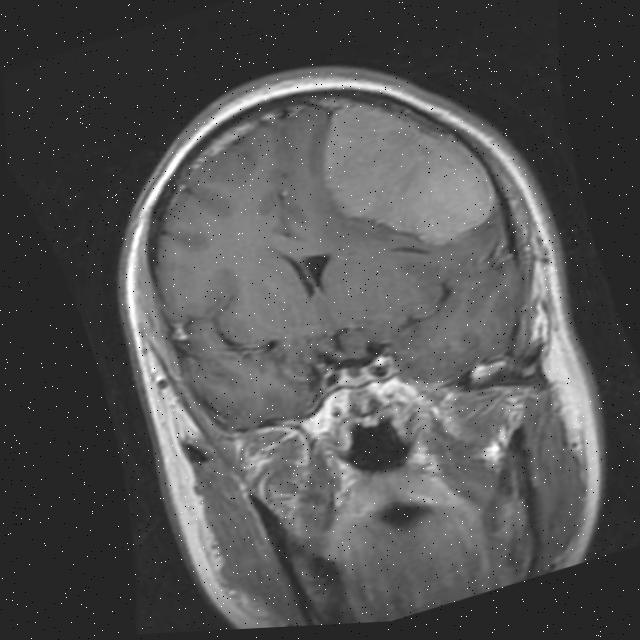Meningioma: (299, 64, 506, 276)
Pituitary: (342, 381, 395, 432)
